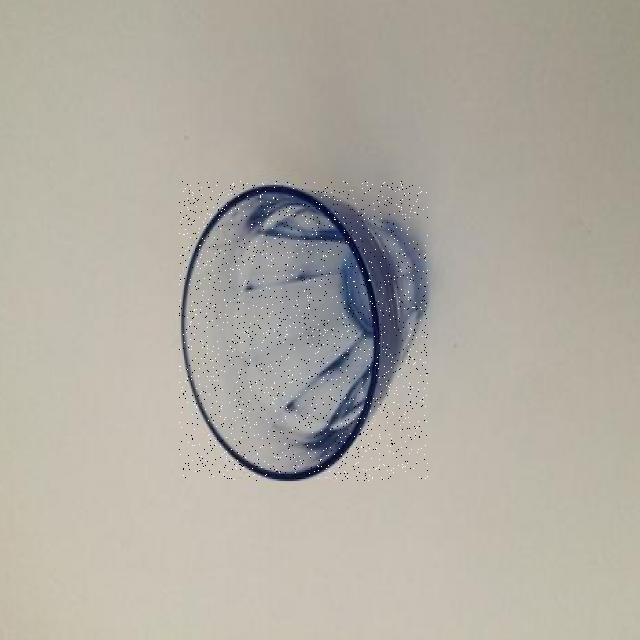glass: (179, 181, 428, 480)
